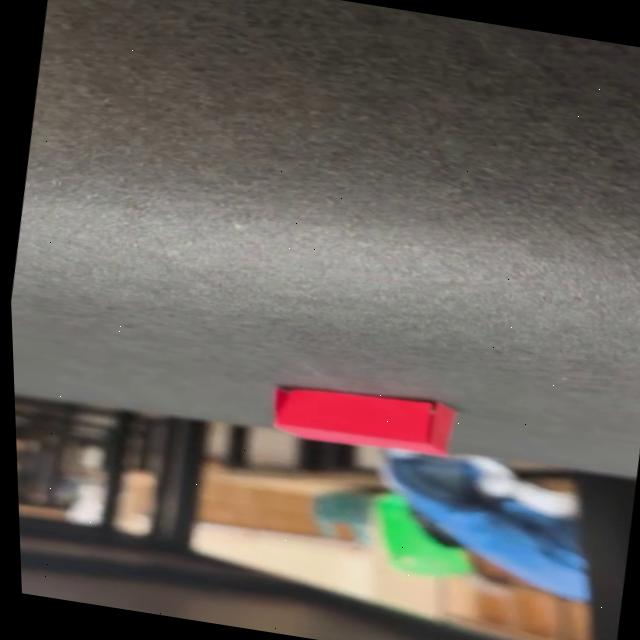red block: (266, 376, 460, 464)
